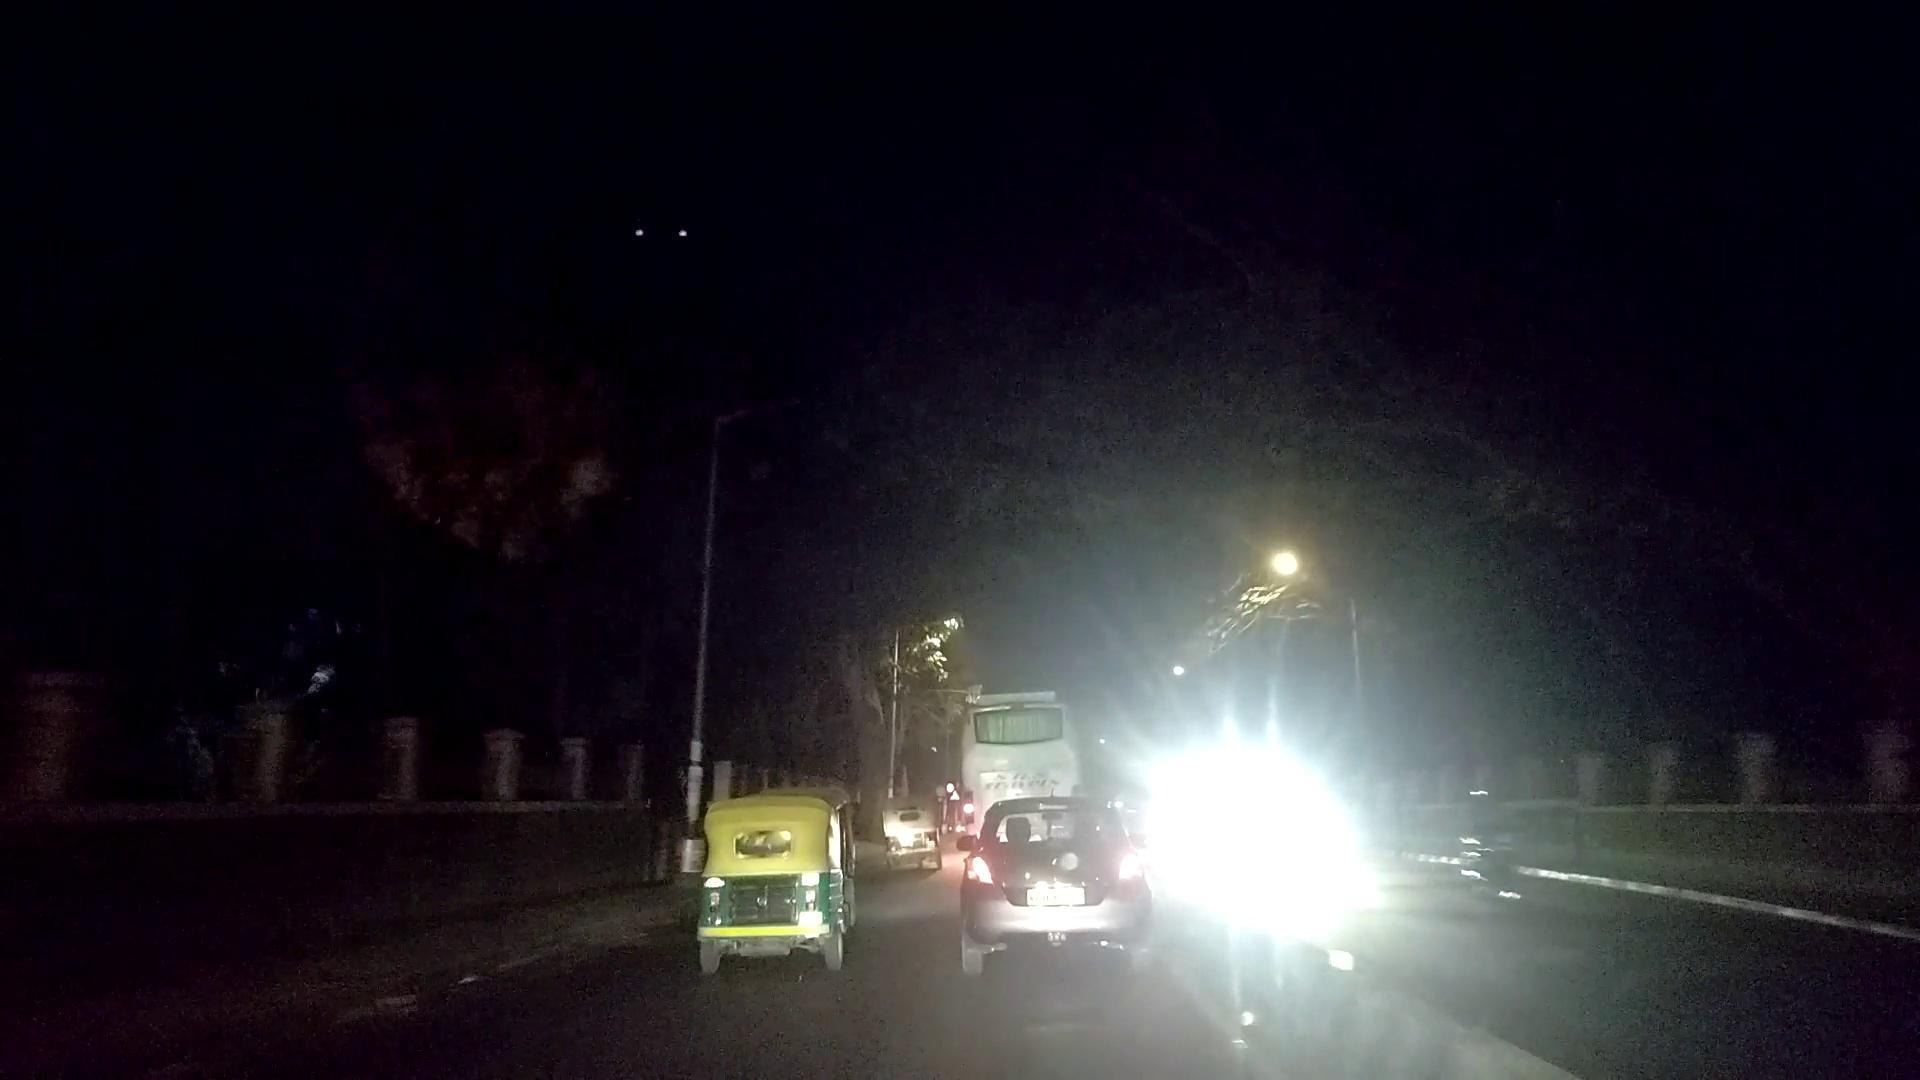on: (1120, 472, 1527, 756)
